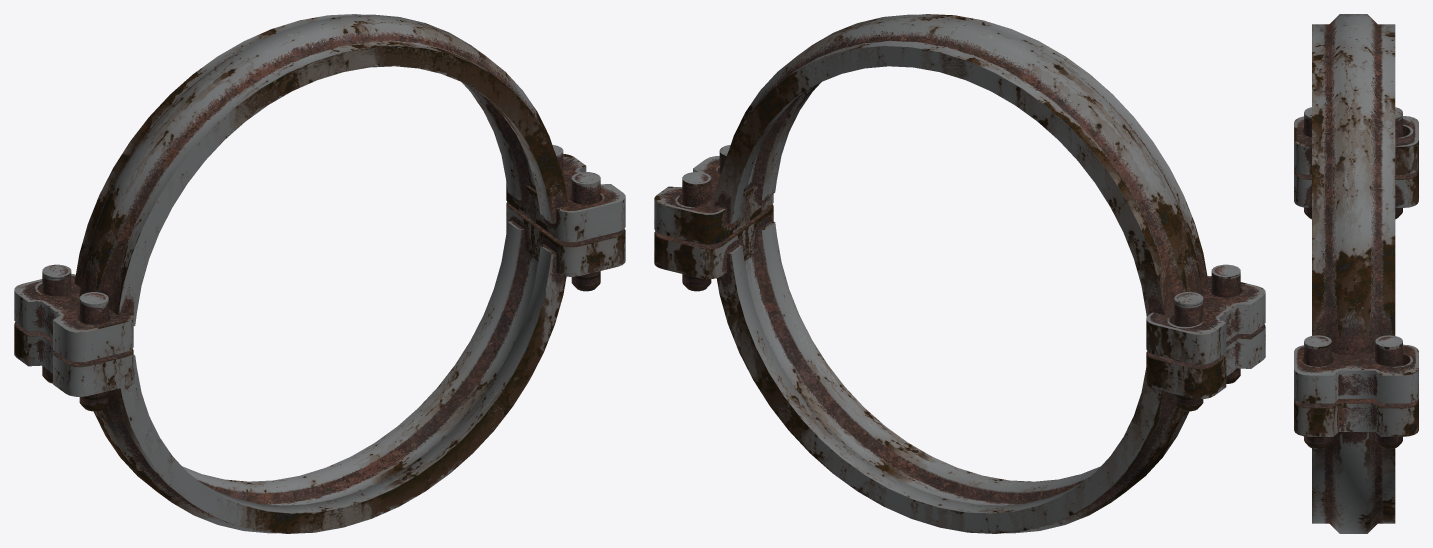
3 views of the same model, side by side, from view 1: azimuth 30°, elevation 25°; view 2: azimuth 150°, elevation 25°; view 3: azimuth 270°, elevation 25° (orthographic). The views are drawn at different scales.
Visible parts, largest first — view 1: Clamp_Mesh; view 2: Clamp_Mesh; view 3: Clamp_Mesh.
Part boxes in pixels (box(x1,y1,x2,y2)): Clamp_Mesh: box(14, 14, 625, 533); Clamp_Mesh: box(654, 14, 1265, 533); Clamp_Mesh: box(1294, 14, 1418, 533).
Size of the model in its own units: 29.5 by 25 by 6.
Materials: 1 (1 with a texture image).
